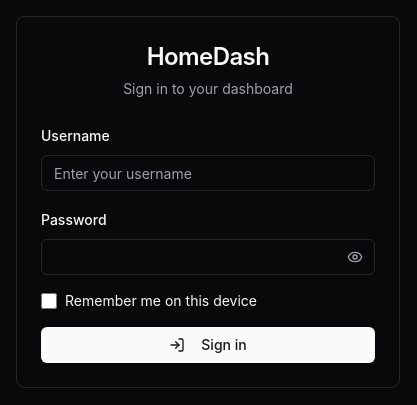
Test case: LoginPage password visibility › reveals and re-masks the password without changing its value
In the password field labelled "Password": (208, 257) [41,239,375,275], type "correct horse battery staple"
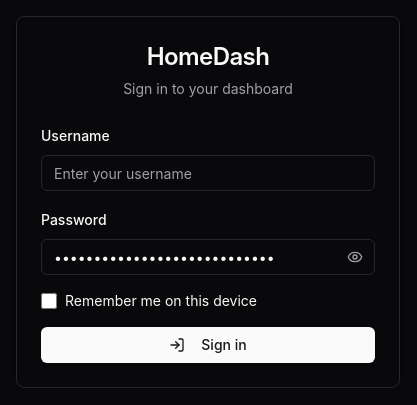
Click the button named "Show password": (355, 257) [335,239,375,275]
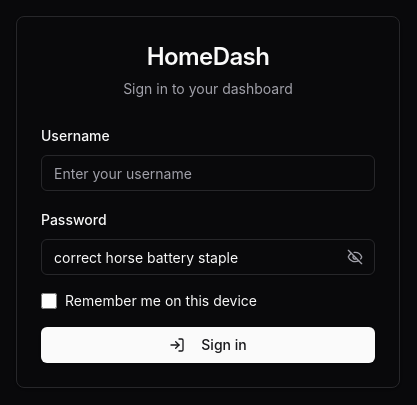
Expected: the field labelled "Password" shows its text, [41,239,375,275]
Click the button named "Hide password": (355, 257) [335,239,375,275]
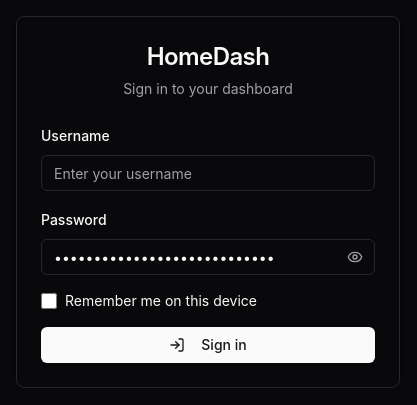
Expected: the password field labelled "Password" hides its text, [41,239,375,275]
